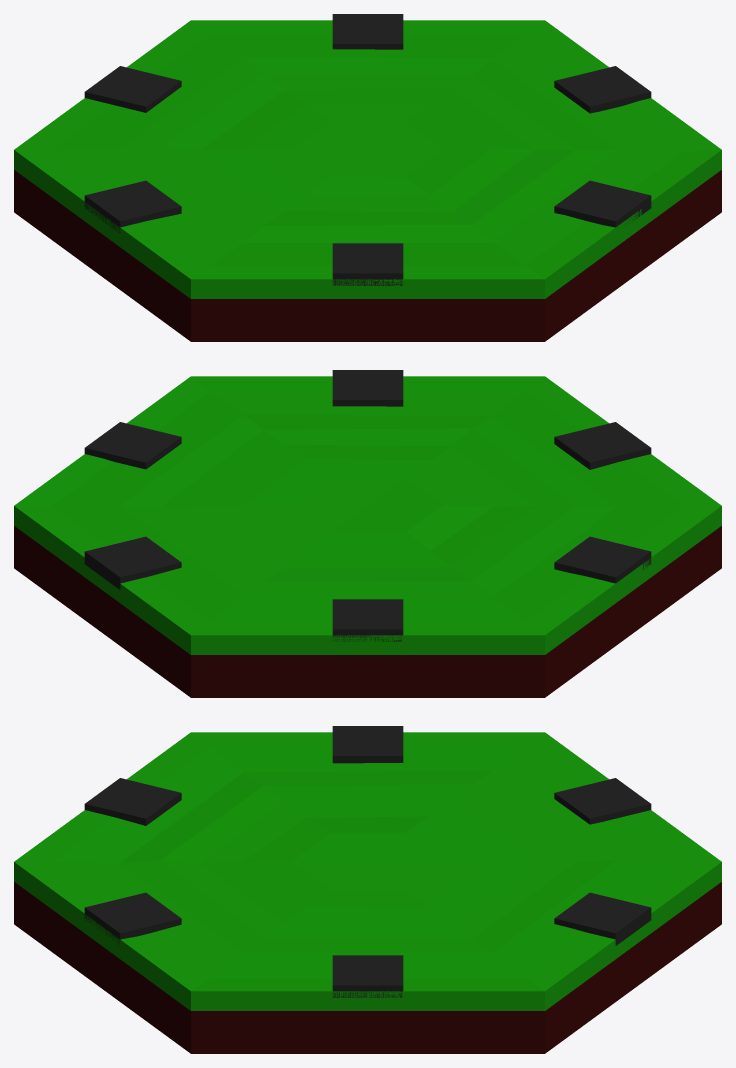
File: Sestuholnik_zakladny_002.fbx
3 renders of one model, top to bottom at view 1: azimuth 30°, elevation 25°; view 2: azimuth 150°, elevation 25°; view 3: azimuth 270°, elevation 25°, orthographic.
Visible parts, largest first — view 1: Cylinder.001, Cylinder, Cube.003, Cube, Cube.004, Cube.001, Cube.005, Cube.002; view 2: Cylinder.001, Cylinder, Cube.002, Cube.005, Cube, Cube.003, Cube.001, Cube.004; view 3: Cylinder.001, Cylinder, Cube.002, Cube.001, Cube.004, Cube.003, Cube.005, Cube.
Part boxes in pixels (box(x1,y1,x2,y2)): Cylinder.001: box(14, 20, 721, 298); Cylinder: box(14, 170, 721, 341); Cube.003: box(332, 243, 403, 285); Cube: box(84, 180, 181, 232); Cube.004: box(554, 180, 651, 227); Cube.001: box(554, 66, 651, 113); Cube.005: box(84, 66, 181, 112); Cube.002: box(332, 14, 403, 49); Cylinder.001: box(14, 376, 721, 654); Cylinder: box(14, 526, 721, 697); Cube.002: box(84, 536, 181, 589); Cube.005: box(332, 599, 403, 641); Cube: box(554, 536, 651, 583); Cube.003: box(554, 422, 651, 469); Cube.001: box(84, 422, 181, 469); Cube.004: box(332, 370, 403, 406); Cylinder.001: box(14, 732, 721, 1010); Cylinder: box(14, 882, 721, 1053); Cube.002: box(554, 892, 651, 945); Cube.001: box(332, 955, 403, 997); Cube.004: box(84, 892, 181, 944); Cube.003: box(84, 778, 181, 825); Cube.005: box(554, 778, 651, 824); Cube: box(332, 726, 403, 763).
Size of the model in its own units: 2598 by 321 by 3000.
